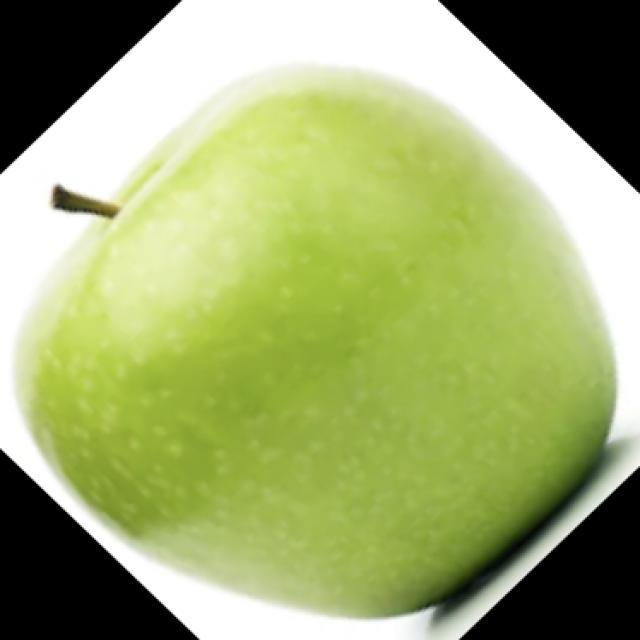Fresh Apple: (5, 55, 618, 622)
